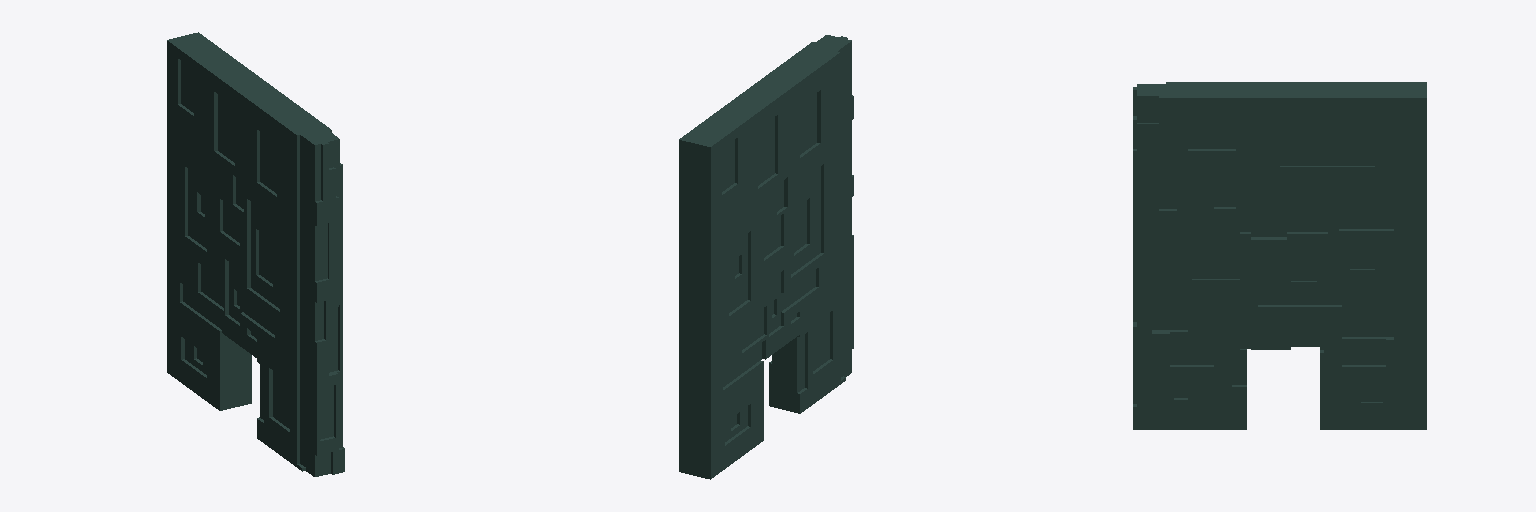
3 renders of one model, left to right at view 1: azimuth 30°, elevation 25°; view 2: azimuth 150°, elevation 25°; view 3: azimuth 270°, elevation 25°, orthographic.
Visible parts, largest first — view 1: object 1; view 2: object 1; view 3: object 1.
Boxes of the visible parts, box(x1,y1,x2,y2) form: object 1: box(167, 32, 344, 476); object 1: box(679, 35, 853, 479); object 1: box(1133, 82, 1426, 429).
Bounding box in the file's own units: 1 × 10 × 8.
Materials: 1 (1 with a texture image).